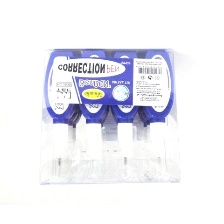correction_fluid: (41, 48, 76, 183), (141, 48, 175, 180), (76, 50, 110, 182), (109, 50, 142, 181)
plastic_box: (35, 43, 183, 188)
